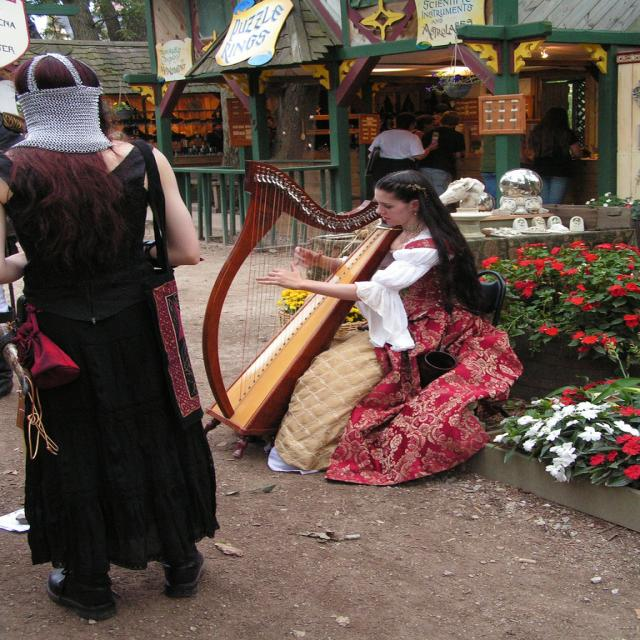harp: (198, 161, 404, 457)
